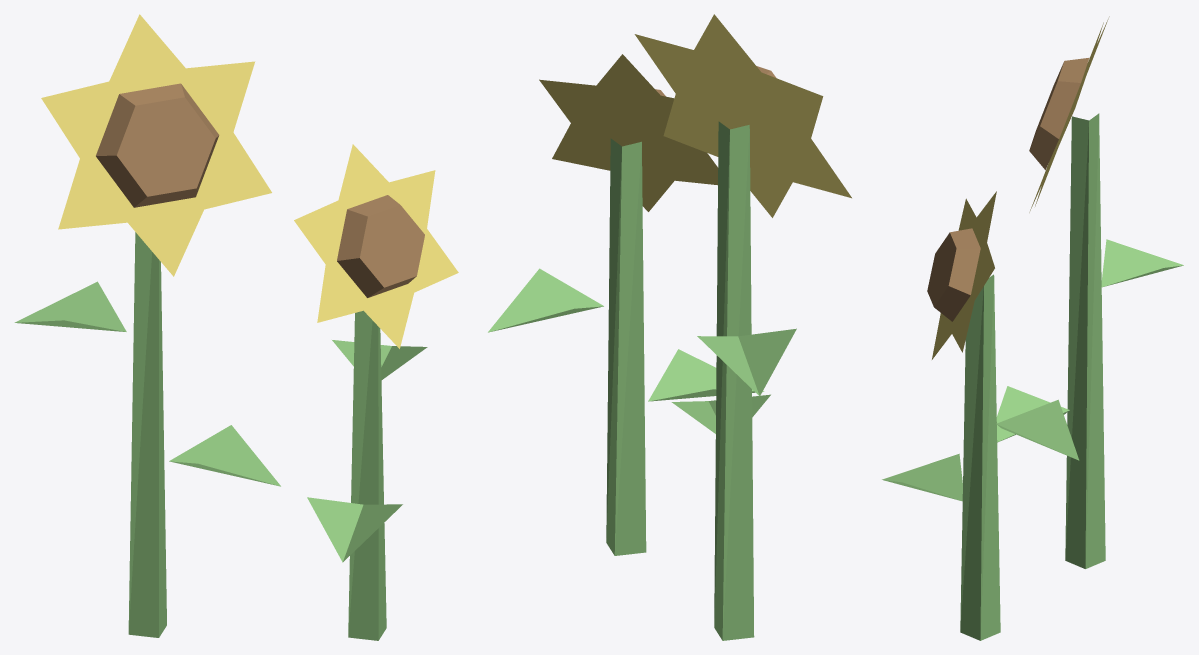
The model's file is sunflower.glb.
3 views of the same model, side by side, from view 1: azimuth 30°, elevation 25°; view 2: azimuth 150°, elevation 25°; view 3: azimuth 270°, elevation 25° (orthographic). The views are drawn at different scales.
Parts seen in each view (by area): view 1: crop; view 2: crop; view 3: crop.
Part boxes in pixels (<box>): crop: <box>14,14,458,640</box>; crop: <box>488,14,851,640</box>; crop: <box>882,16,1183,640</box>.
Size of the model in its own units: 0.8962 by 1.5 by 0.7503.
